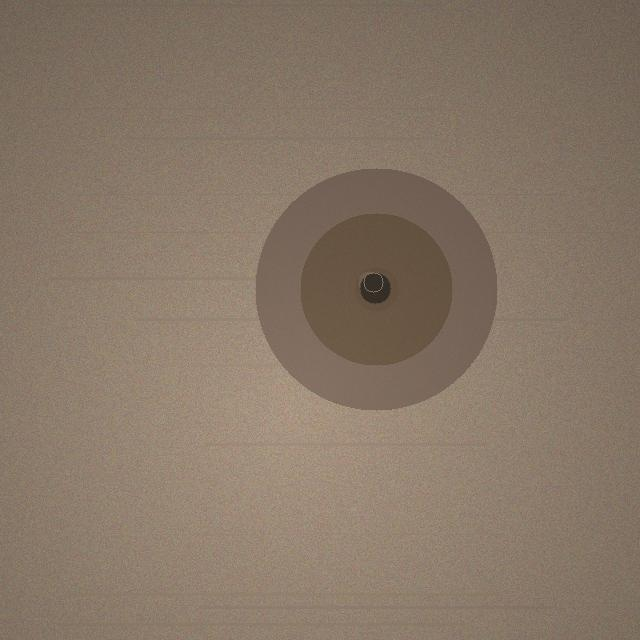shrinkage: (255, 168, 497, 410)
